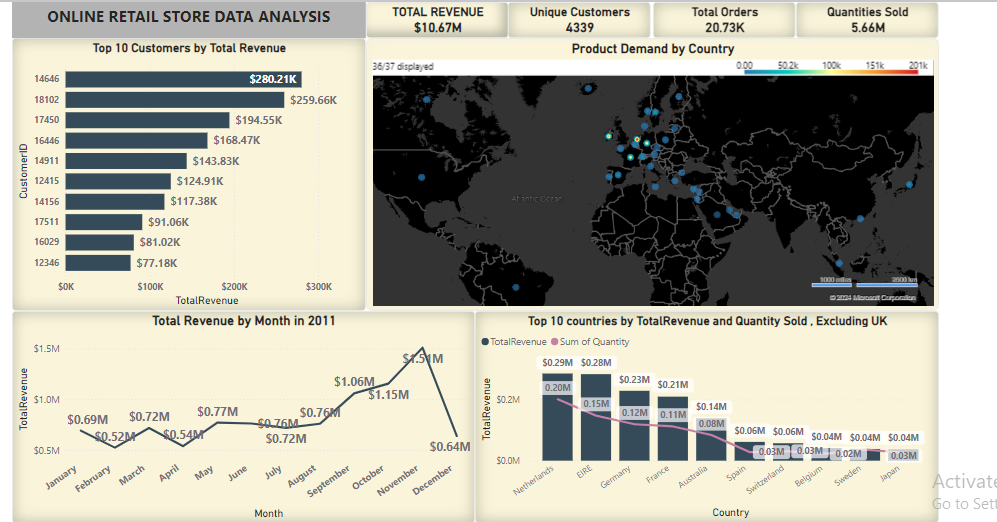

The page's visual inventory and layout, read from the dashboard file:
{"tool":"powerbi","page":{"name":"Page 1","canvas":[1280,720],"ordinal":0},"visuals":[{"type":"lineChart","title":"Total Revenue by Month in 2011","fields":{"Category":["Online Retail.InvoiceDate.Variation.Date Hierarchy.Month"],"Y":["Online Retail.TotalRevenue"]},"box":[0,426.8,639.5,293.2],"z":0},{"type":"card","title":"TOTAL REVENUE","fields":{"Values":["Online Retail.TotalRevenue"]},"box":[488.6,0,196.9,50.3],"z":1},{"type":"lineClusteredColumnComboChart","title":"Top 10 countries by TotalRevenue and Quantity Sold , Excluding UK","fields":{"Category":["Online Retail.Country"],"Y":["Online Retail.TotalRevenue"],"Y2":["Sum(Online Retail.Quantity)"]},"box":[639.5,426.8,641,293.2],"z":2},{"type":"barChart","title":"Top 10 Customers by Total Revenue  ","fields":{"Category":["Online Retail.CustomerID"],"Y":["Online Retail.TotalRevenue"]},"box":[0,50.3,488.6,376.5],"z":3},{"type":"heatmapF244EA9EE1F34E828A80CF19B41976F8","title":"Product Demand by Country","fields":{"location":["Online Retail.Country"],"value":["Sum(Online Retail.Quantity)"]},"box":[488.6,50.3,791.9,376.5],"z":4},{"type":"textbox","box":[0,0,488.6,50.3],"z":5},{"type":"card","title":"Unique Customers","fields":{"Values":["Online Retail.#UniqueCustomers"]},"box":[685.5,0,196.9,50.3],"z":6},{"type":"card","title":"Total Orders","fields":{"Values":["Count(Online Retail.InvoiceNo)"]},"box":[885.3,0,196.9,50.3],"z":7},{"type":"card","title":"Quantities Sold","fields":{"Values":["Sum(Online Retail.Quantity)"]},"box":[1083.6,0,196.9,50.3],"z":8}]}

Visuals, with their boxes on the page's 1280x720 design canvas (x1, y1, x2, y2). These are canvas units, not pixel positions in the 997x522 screenshot, which may show the page scaled, cropped or inside an application window:
"Total Revenue by Month in 2011" lineChart: box(0, 427, 640, 720)
"TOTAL REVENUE" card: box(489, 0, 686, 50)
"Top 10 countries by TotalRevenue and Quantity Sold , Excluding UK" lineClusteredColumnComboChart: box(640, 427, 1280, 720)
"Top 10 Customers by Total Revenue  " barChart: box(0, 50, 489, 427)
"Product Demand by Country" heatmapF244EA9EE1F34E828A80CF19B41976F8: box(489, 50, 1280, 427)
textbox: box(0, 0, 489, 50)
"Unique Customers" card: box(686, 0, 882, 50)
"Total Orders" card: box(885, 0, 1082, 50)
"Quantities Sold" card: box(1084, 0, 1280, 50)
